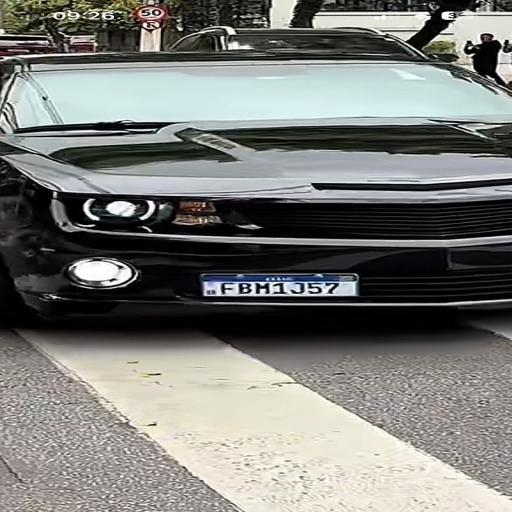detec-o-placas: (127, 221, 427, 343)
